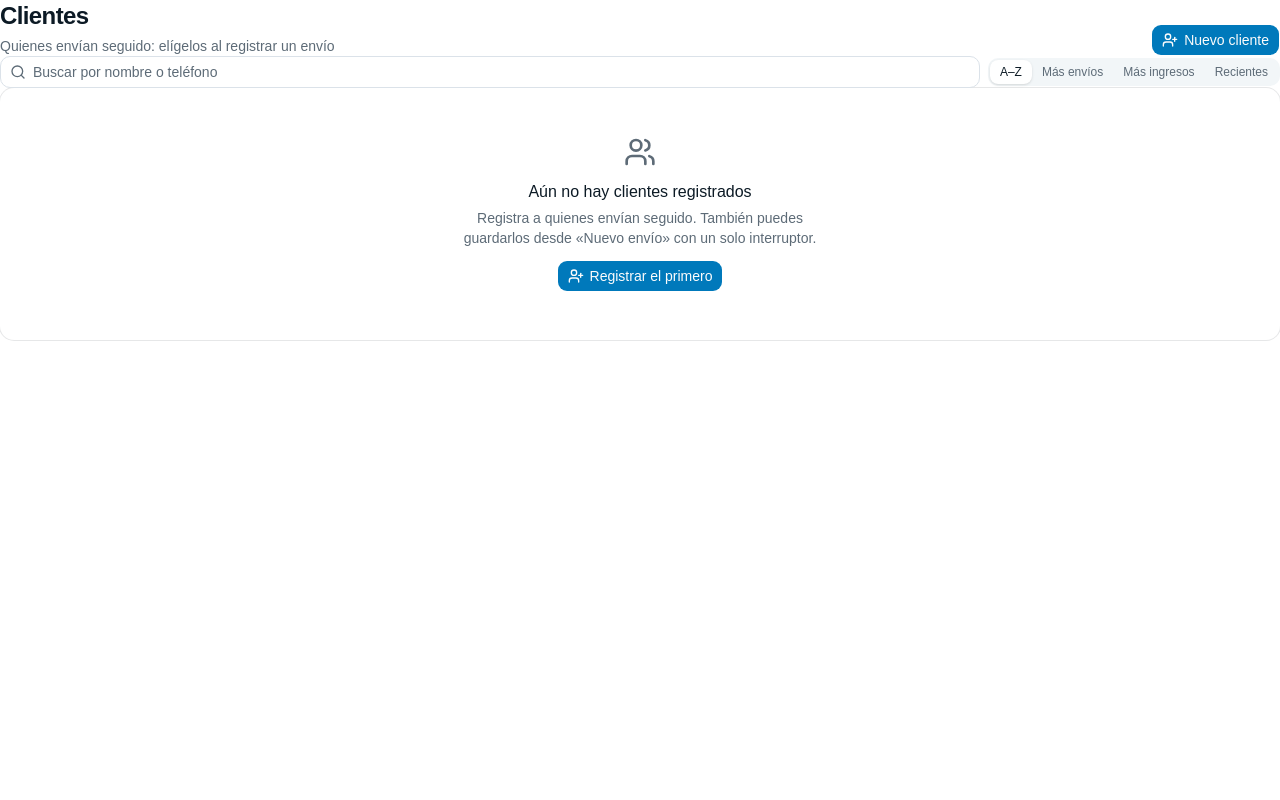
Test case: ClientesPage › registra un cliente nuevo con nombre, teléfono y su consentimiento
This screenshot has width=1280, height=800.
Click the button "Registrar el primero" at (640, 276), box 556,260 -> 723,292
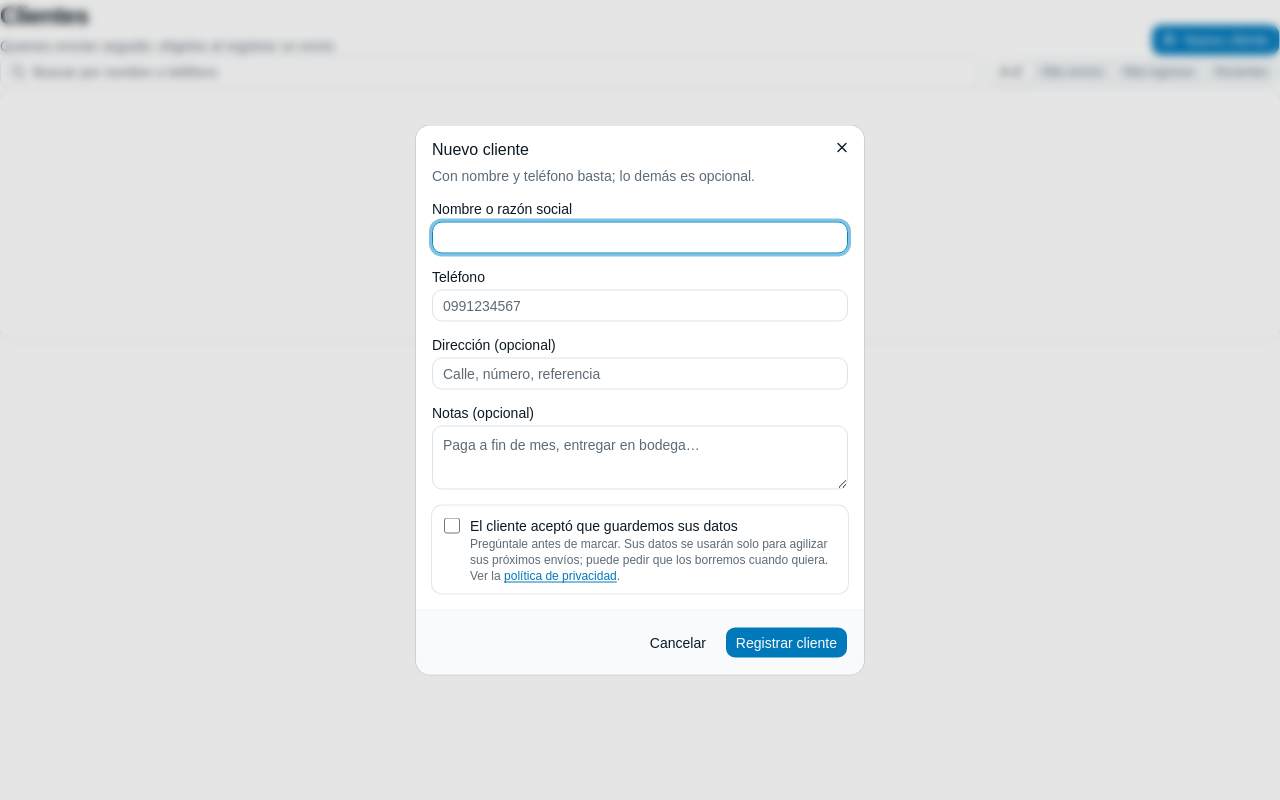
Type "Comercial Otavalo" into the field labelled "Nombre o razón social" at (640, 238), box 432,222 -> 848,254
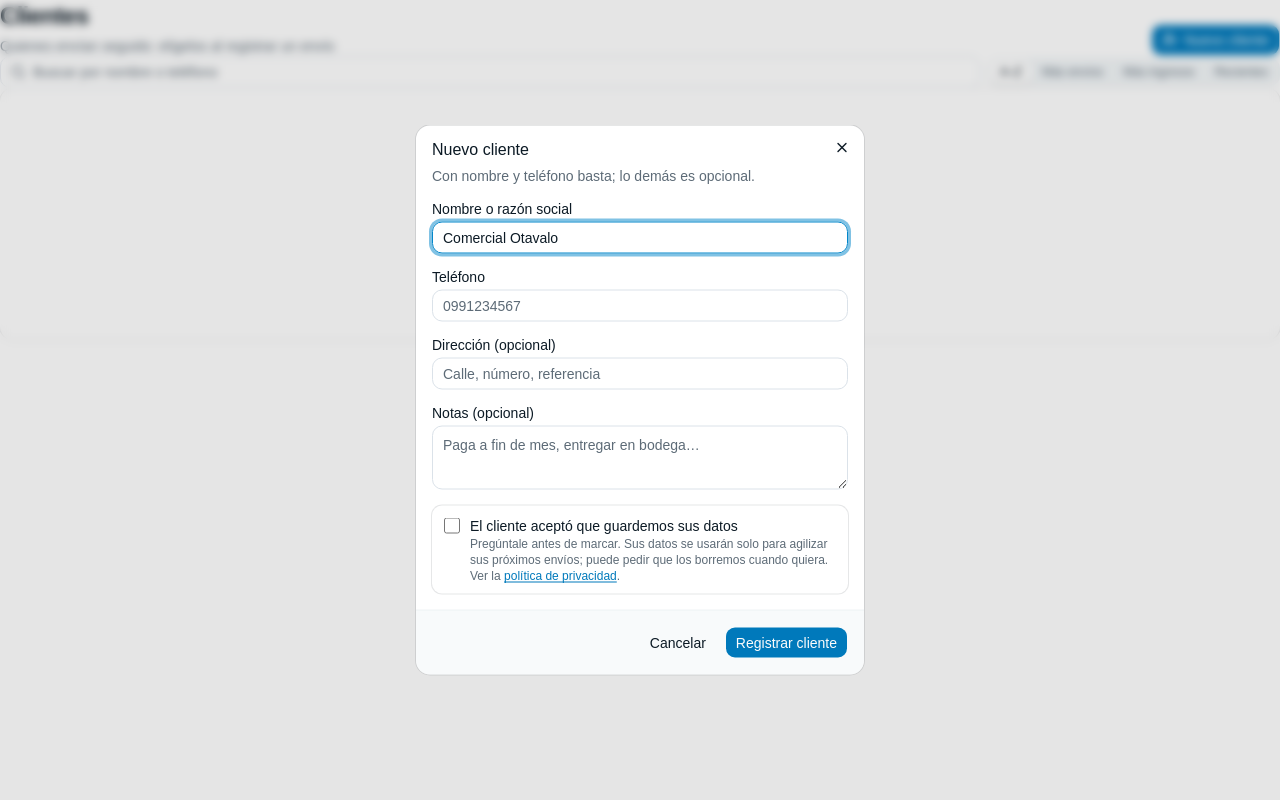
Type "062920333" into the field labelled "Teléfono" at (640, 306), box 432,290 -> 848,322
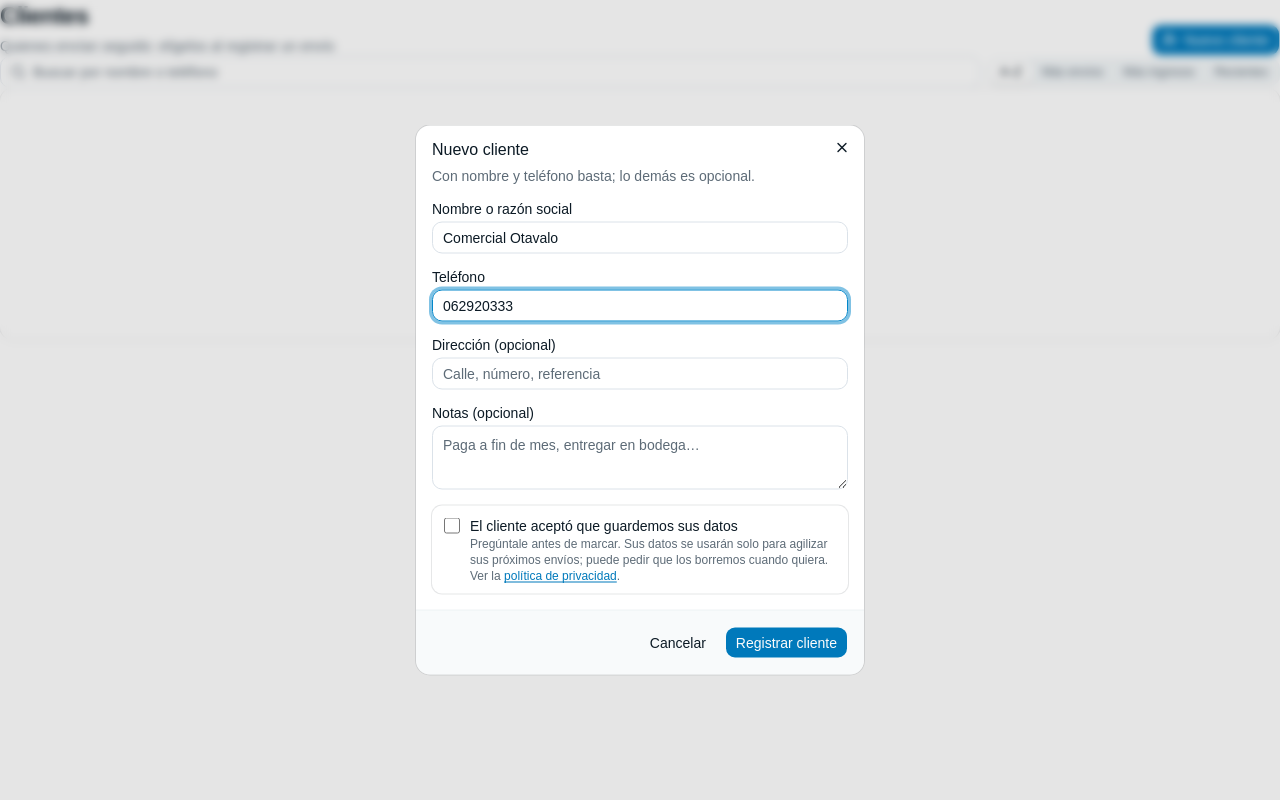
Expected: the checkbox labelled "El cliente aceptó que guardemos sus datos" is not checked
Click the checkbox labelled "El cliente aceptó que guardemos sus datos" at (452, 526), box 444,518 -> 460,534
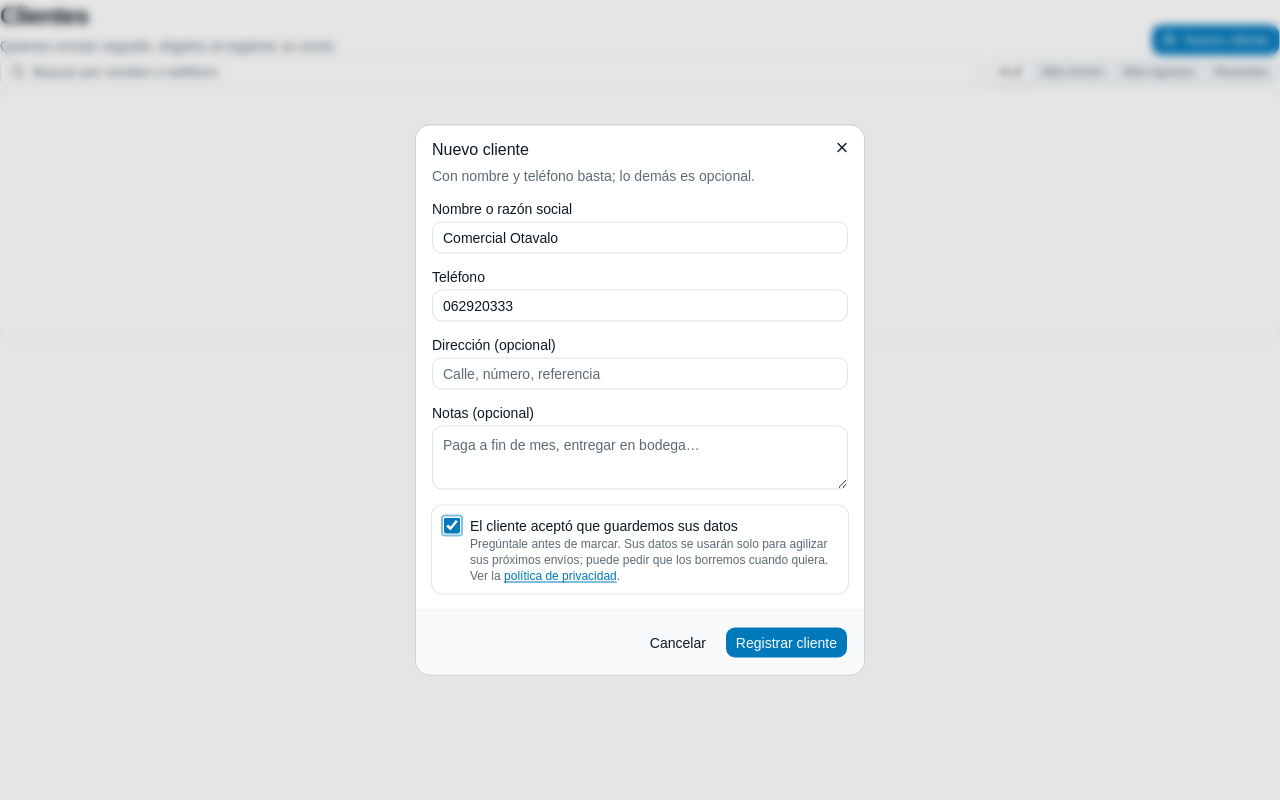
Click the button "Registrar cliente" at (786, 642), box 725,626 -> 848,658
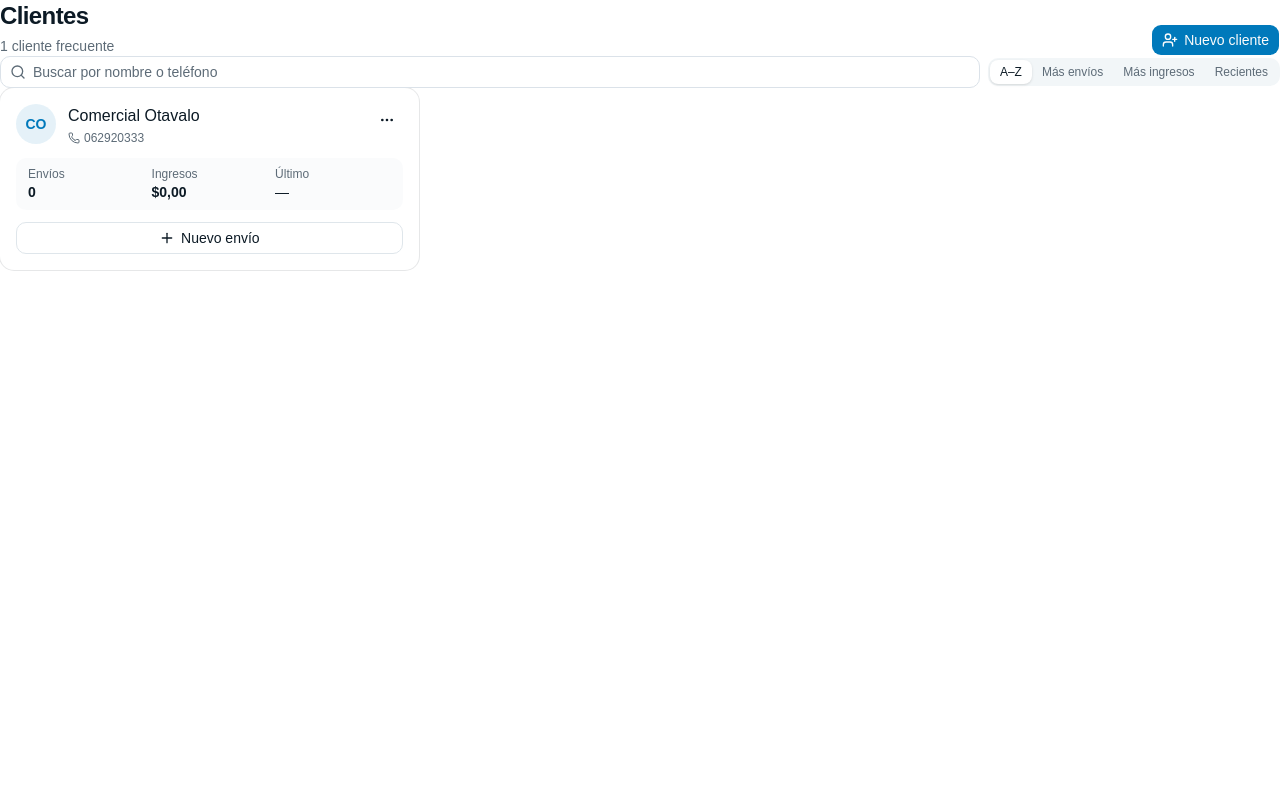
Expected: the text "Comercial Otavalo" is shown, 68,104 -> 200,128
